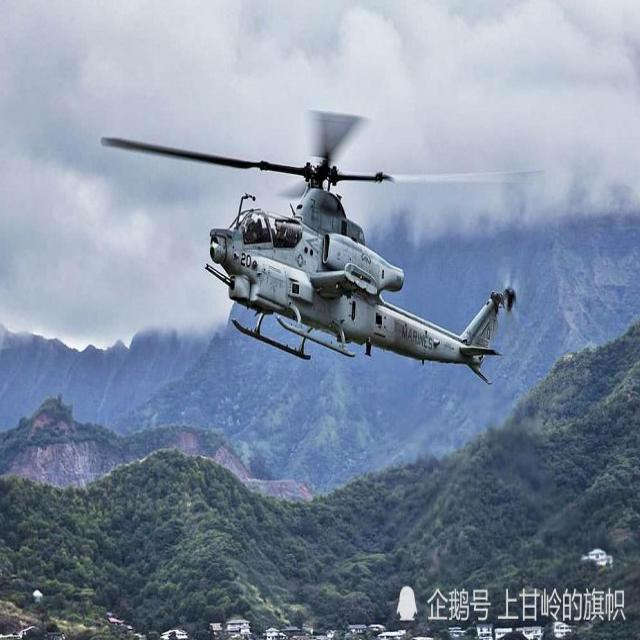MIL_HELO: (104, 65, 516, 393)
